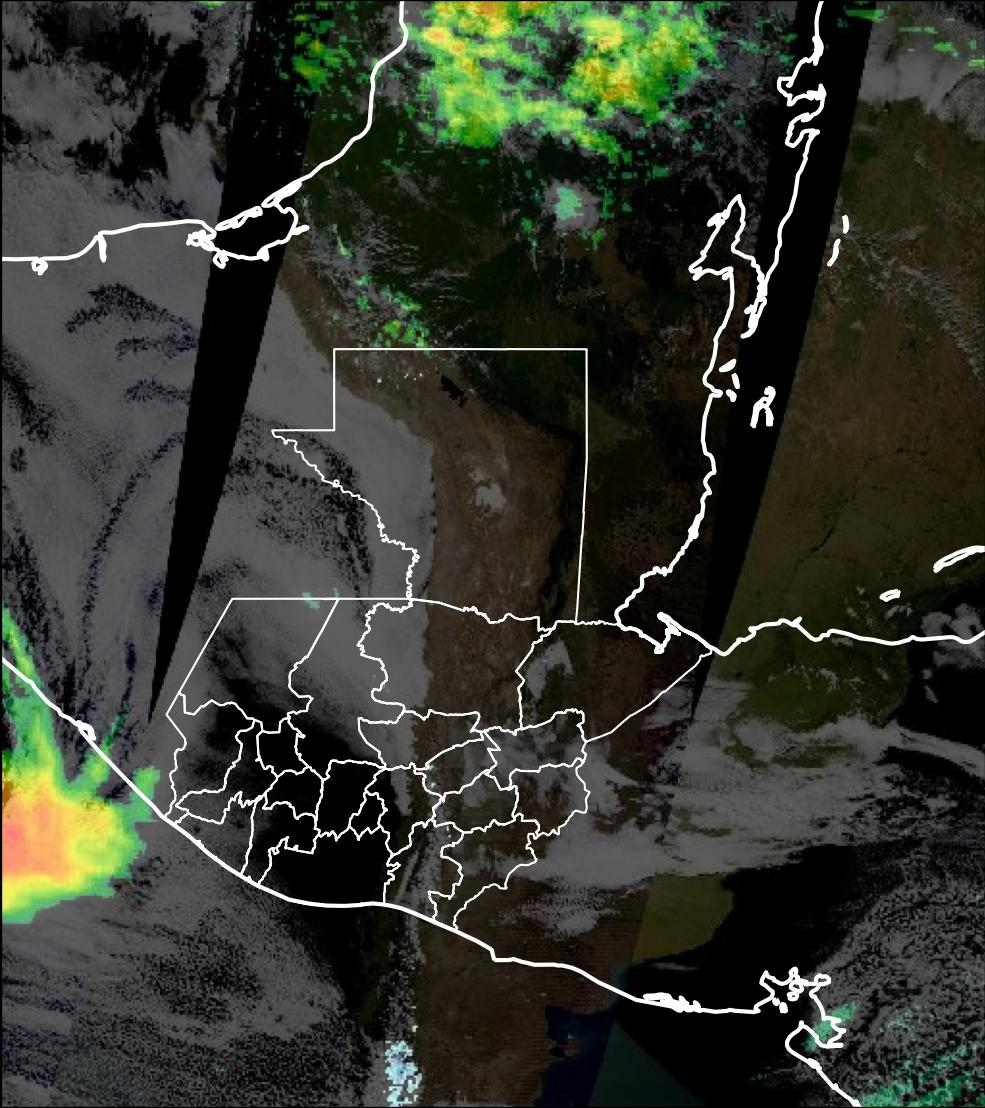precipitacion: (1, 776, 121, 903)
